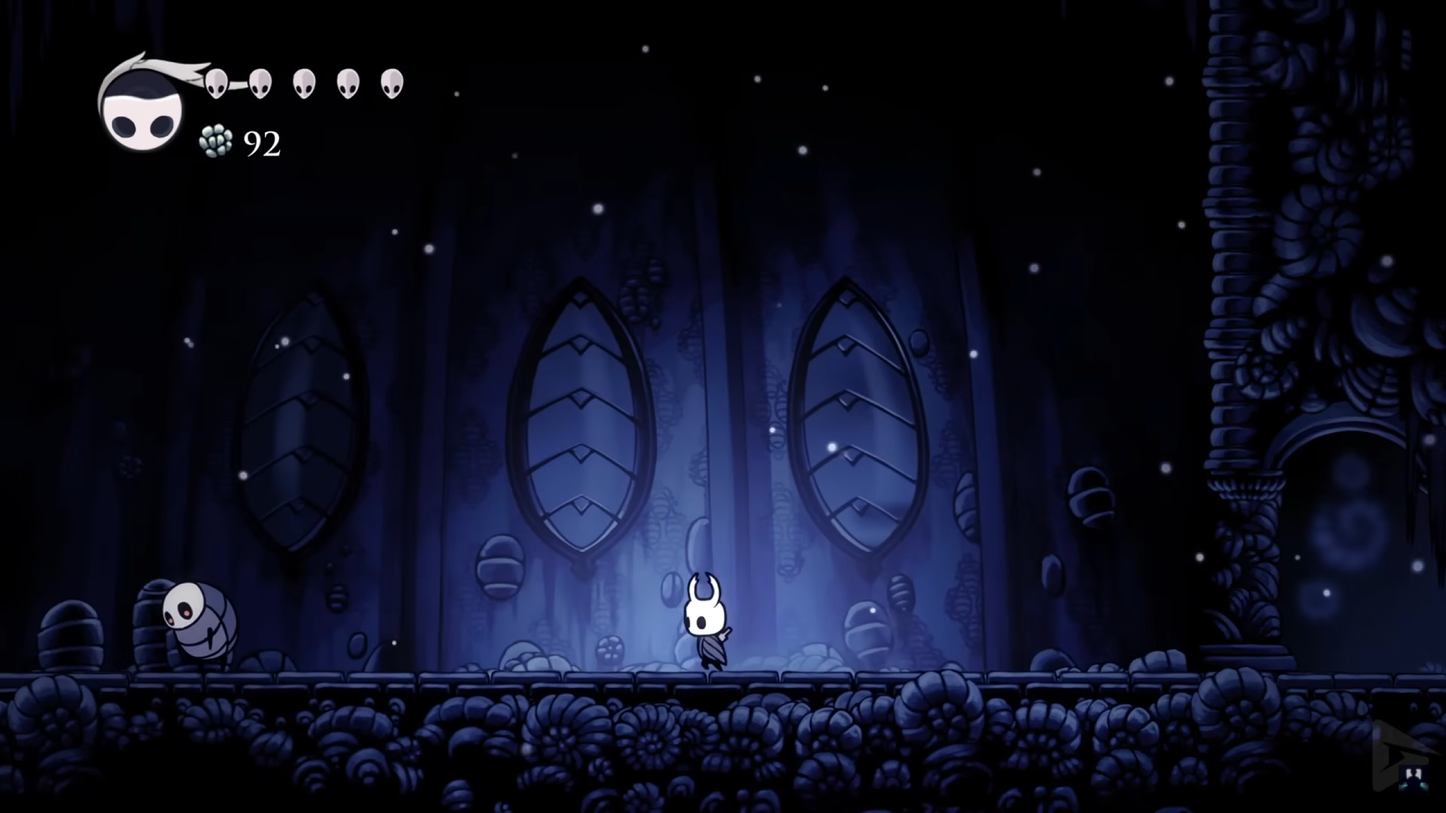HK: (673, 568, 740, 674)
